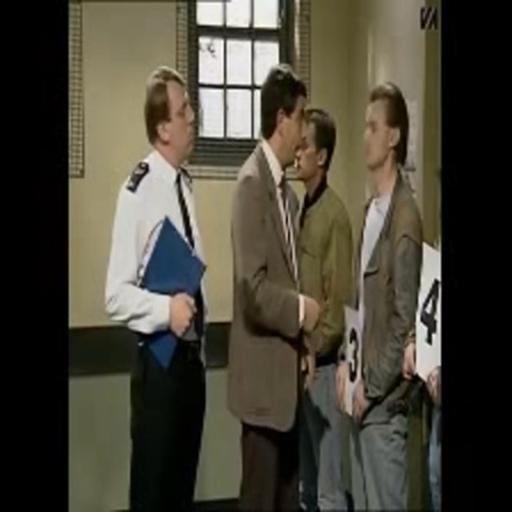nao-violencia: (225, 53, 425, 512)
